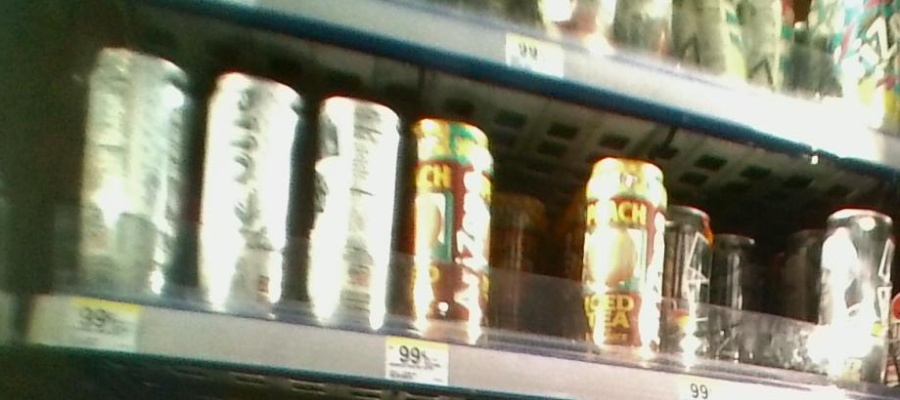bottle: (77, 33, 191, 322), (196, 41, 304, 328), (307, 58, 402, 341), (407, 96, 491, 362), (585, 147, 666, 361), (820, 197, 895, 397), (497, 166, 554, 356), (665, 206, 715, 366), (718, 229, 758, 366)
